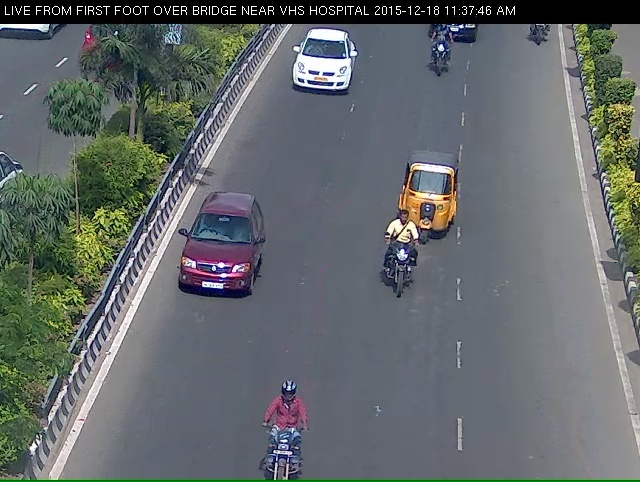Auto: (394, 167, 466, 253)
Car: (167, 203, 268, 335), (285, 36, 360, 107)
Person: (380, 242, 431, 328), (253, 419, 312, 481), (428, 34, 452, 84)
